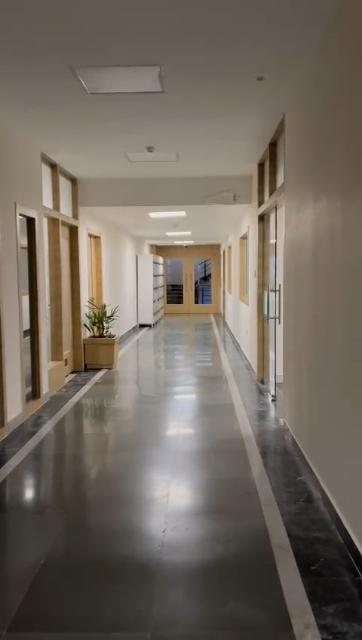door: (253, 149, 285, 403), (47, 208, 85, 380), (164, 242, 224, 316)
floor: (0, 317, 362, 640)
object: (79, 292, 114, 374)
wall: (284, 76, 362, 417)
